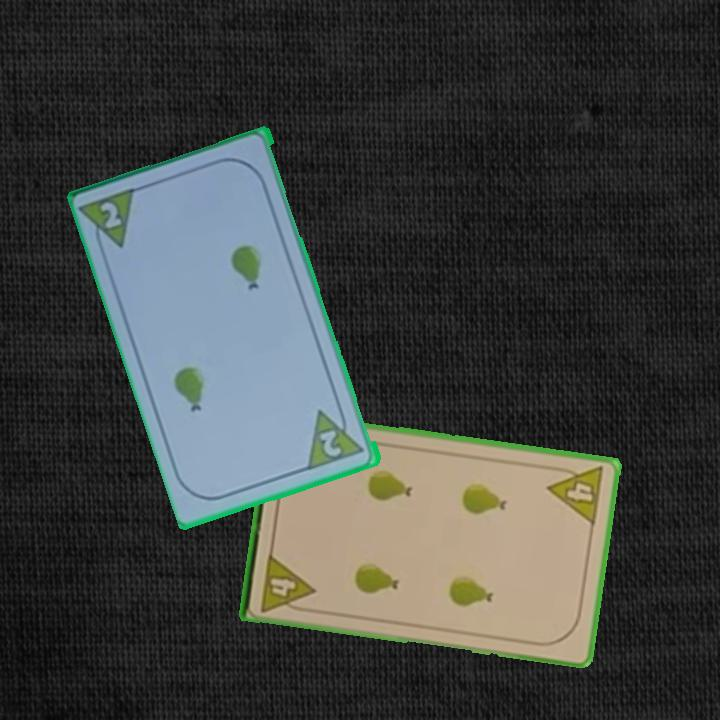2p: (79, 184, 142, 259), (316, 426, 345, 460)
4p: (544, 462, 607, 528), (257, 549, 317, 615)
